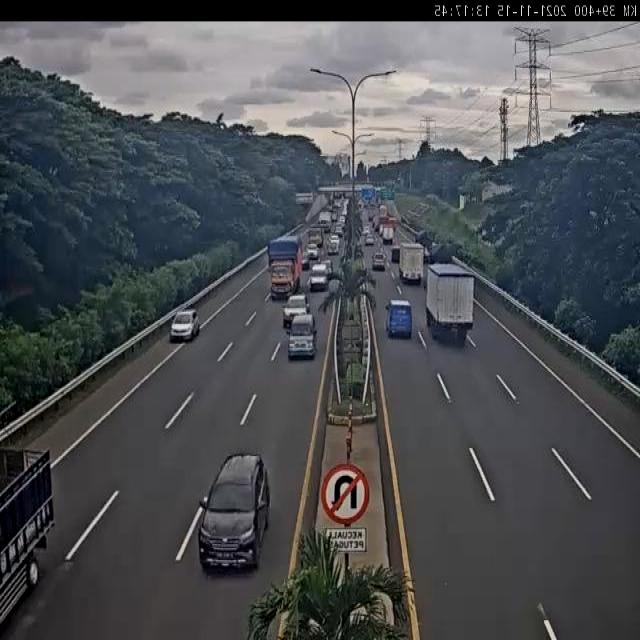Car: (197, 446, 269, 586), (287, 313, 318, 361), (170, 306, 201, 345), (283, 291, 308, 328), (310, 261, 328, 295), (371, 252, 386, 274), (329, 237, 342, 260), (304, 244, 318, 260), (366, 236, 375, 247)
Truck: (426, 264, 474, 345), (267, 233, 302, 300), (386, 294, 414, 342), (401, 238, 426, 287), (382, 224, 398, 245)
